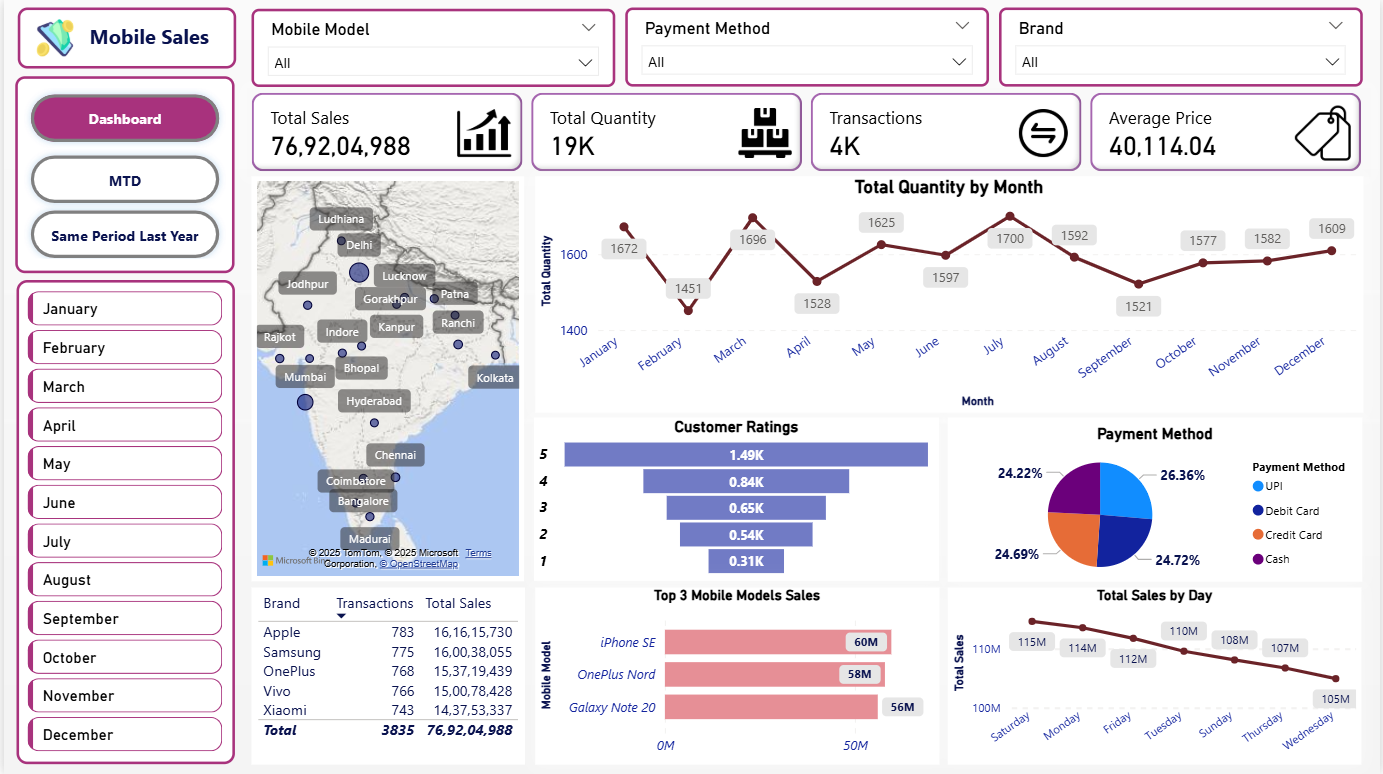

What the dashboard file says about the page in this screenshot:
{"tool":"powerbi","page":{"name":"Dashboard","canvas":[1280,720],"ordinal":0},"visuals":[{"type":"advancedSlicerVisual","fields":{"Values":["Custom_calender.Date.Variation.Date Hierarchy.Month"]},"box":[12,260,203,450],"z":0},{"type":"shape","box":[12.3,6.9,203.1,56.9],"z":1000},{"type":"textbox","box":[54.6,16.2,160.8,38.5],"z":2000},{"type":"image","box":[25.4,11.5,43.8,47.7],"z":3000},{"type":"cardVisual","fields":{"Data":["Sales_data.Total_sales","Sales_data.Total_Quantity","Sales_data.Transactions","Sales_data.Average_Price"]},"box":[225.8,80.8,1045.8,83],"z":4000},{"type":"slicer","fields":{"Values":["Sales_data.Mobile Model"]},"box":[230,8.1,338.7,72.9],"z":5000},{"type":"slicer","fields":{"Values":["Sales_data.Payment Method"]},"box":[577.9,7.4,338.7,73.6],"z":6000},{"type":"slicer","fields":{"Values":["Sales_data.Brand"]},"box":[925.5,7.3,338.2,73.6],"z":7000},{"type":"map","fields":{"Category":["Sales_data.City"],"Size":["Sales_data.Total Sales"]},"box":[230,163.6,253.6,377.1],"z":8000},{"type":"lineChart","fields":{"Y":["Sales_data.Total Quantity"],"Category":["Custom_calender.Date.Variation.Date Hierarchy.Month"]},"box":[493.8,163.8,770,220],"z":9000},{"type":"funnel","title":"Customer Ratings","fields":{"Category":["Sales_data.Customer Ratings"],"Y":["CountNonNull(Sales_data.Customer Ratings)"]},"box":[493.3,388.9,376.7,152.2],"z":10000},{"type":"pieChart","title":"Payment Method","fields":{"Category":["Sales_data.Payment Method"],"Y":["Sales_data.Transactions"]},"box":[878.2,388.2,385.5,152.7],"z":11000},{"type":"clusteredBarChart","title":"Top 3 Mobile Models Sales","fields":{"Category":["Sales_data.Mobile Model"],"Y":["Sales_data.Total Sales"]},"box":[494.4,546.2,375.6,165],"z":12000},{"type":"areaChart","title":"Total Sales by Day","fields":{"Category":["Custom_calender.Day Name"],"Y":["Sales_data.Total Sales"]},"box":[878,546,385,165],"z":13000},{"type":"tableEx","fields":{"Values":["Sales_data.Brand","Sales_data.Transactions","Sales_data.Total Sales"]},"box":[230,546.2,254,165],"z":14000},{"type":"shape","box":[11,71.2,203.7,182.8],"z":15000},{"type":"pageNavigator","box":[18.4,81,189,160.7],"z":16000}]}

Visuals, with their boxes in screenshot pixels (x1, y1, x2, y2), scaled from the page's 1280x720 canvas onto the 1383x774 screenshot:
advancedSlicerVisual - Custom_calender.Date.Variation.Date Hierarchy.Month: bbox(13, 280, 232, 763)
shape: bbox(13, 7, 233, 69)
textbox: bbox(59, 17, 233, 59)
image: bbox(27, 12, 75, 64)
cardVisual - Sales_data.Total_sales x Sales_data.Total_Quantity: bbox(244, 87, 1374, 176)
slicer - Sales_data.Mobile Model: bbox(249, 9, 614, 87)
slicer - Sales_data.Payment Method: bbox(624, 8, 990, 87)
slicer - Sales_data.Brand: bbox(1000, 8, 1365, 87)
map - Sales_data.City x Sales_data.Total Sales: bbox(249, 176, 523, 581)
lineChart - Sales_data.Total Quantity x Custom_calender.Date.Variation.Date Hierarchy.Month: bbox(534, 176, 1365, 413)
"Customer Ratings" funnel: bbox(533, 418, 940, 582)
"Payment Method" pieChart: bbox(949, 417, 1365, 581)
"Top 3 Mobile Models Sales" clusteredBarChart: bbox(534, 587, 940, 765)
"Total Sales by Day" areaChart: bbox(949, 587, 1365, 764)
tableEx - Sales_data.Brand x Sales_data.Transactions: bbox(249, 587, 523, 765)
shape: bbox(12, 77, 232, 273)
pageNavigator: bbox(20, 87, 224, 260)
